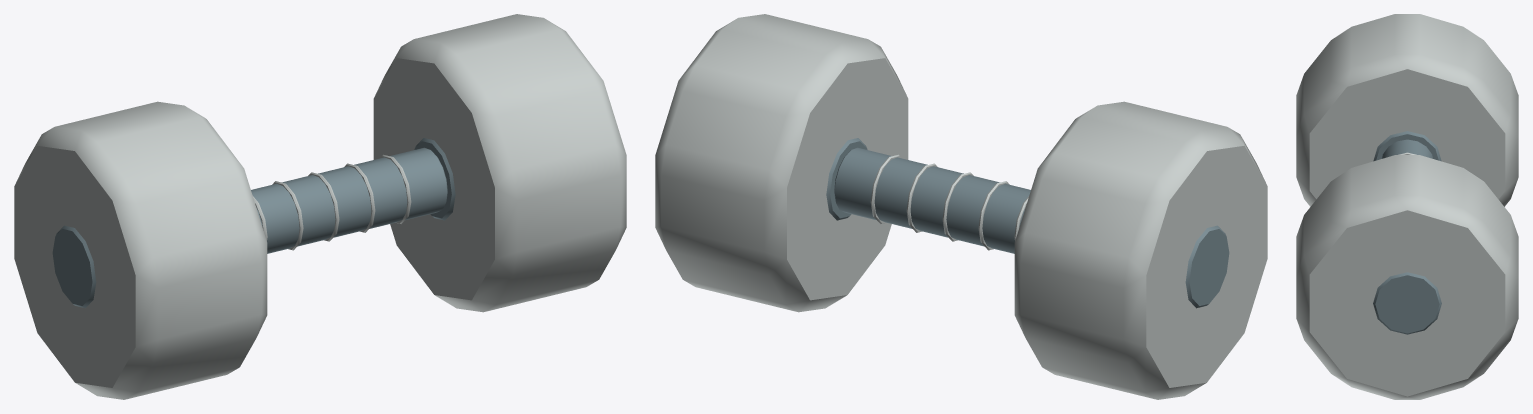
File: dumbbell.glb
3 renders of one model, left to right at view 1: azimuth 30°, elevation 25°; view 2: azimuth 150°, elevation 25°; view 3: azimuth 270°, elevation 25°, orthographic. The views are drawn at different scales.
Visible parts, largest first — view 1: weight, weight.001, handle, endcap, endcap.001; view 2: weight, weight.001, handle, endcap, endcap.001; view 3: weight.001, weight, endcap.001, endcap, handle.
Part boxes in pixels (x1,y1,x2,y2): weight: (14,101,267,399); weight.001: (373,14,626,312); handle: (251,147,447,253); endcap: (52,225,96,308); endcap.001: (414,138,455,220); weight: (1014,101,1267,399); weight.001: (655,14,908,312); handle: (834,147,1030,253); endcap: (1185,225,1229,308); endcap.001: (826,138,867,220); weight.001: (1296,155,1518,399); weight: (1296,14,1518,206); endcap.001: (1373,272,1441,334); endcap: (1373,131,1441,161); handle: (1382,139,1432,158).
Bounding box in the file's own units: 0.414 × 0.2026 × 0.1997.
